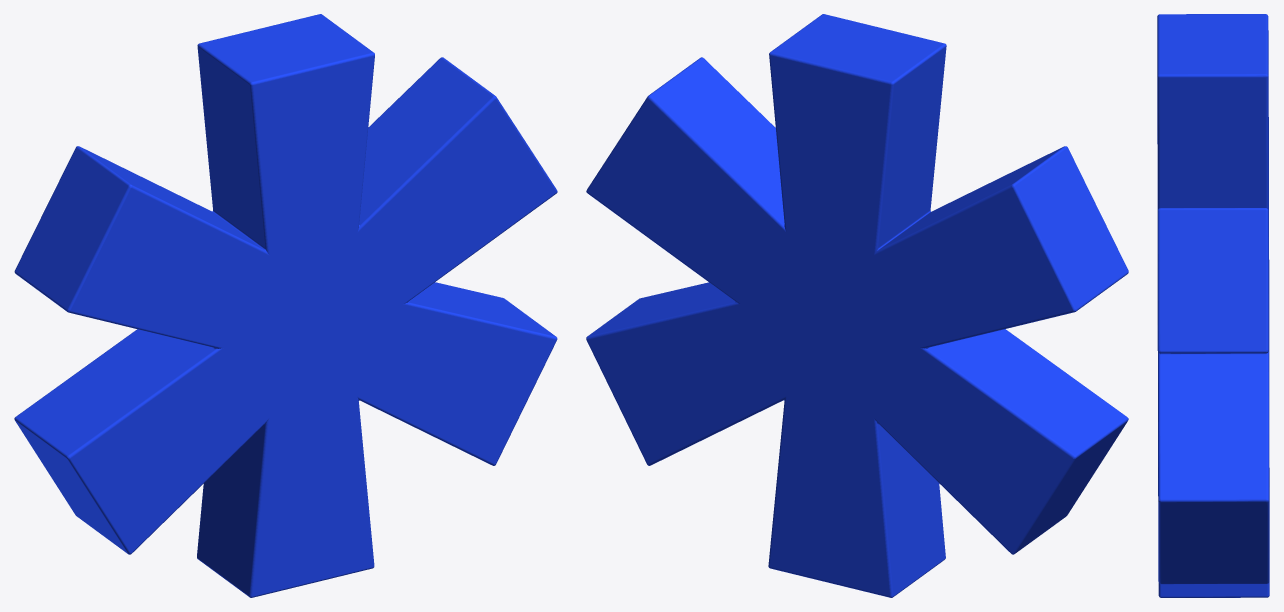
File: faith.7133c46e.glb
3 renders of one model, left to right at view 1: azimuth 30°, elevation 25°; view 2: azimuth 150°, elevation 25°; view 3: azimuth 270°, elevation 25°, orthographic.
Parts seen in each view (by area): view 1: Curve.002; view 2: Curve.002; view 3: Curve.002.
Part boxes in pixels (x1,y1,x2,y2): Curve.002: (14, 14, 557, 597); Curve.002: (586, 14, 1128, 597); Curve.002: (1157, 14, 1269, 597).
Size of the model in its own units: 0.4647 by 0.4677 by 0.0909.
